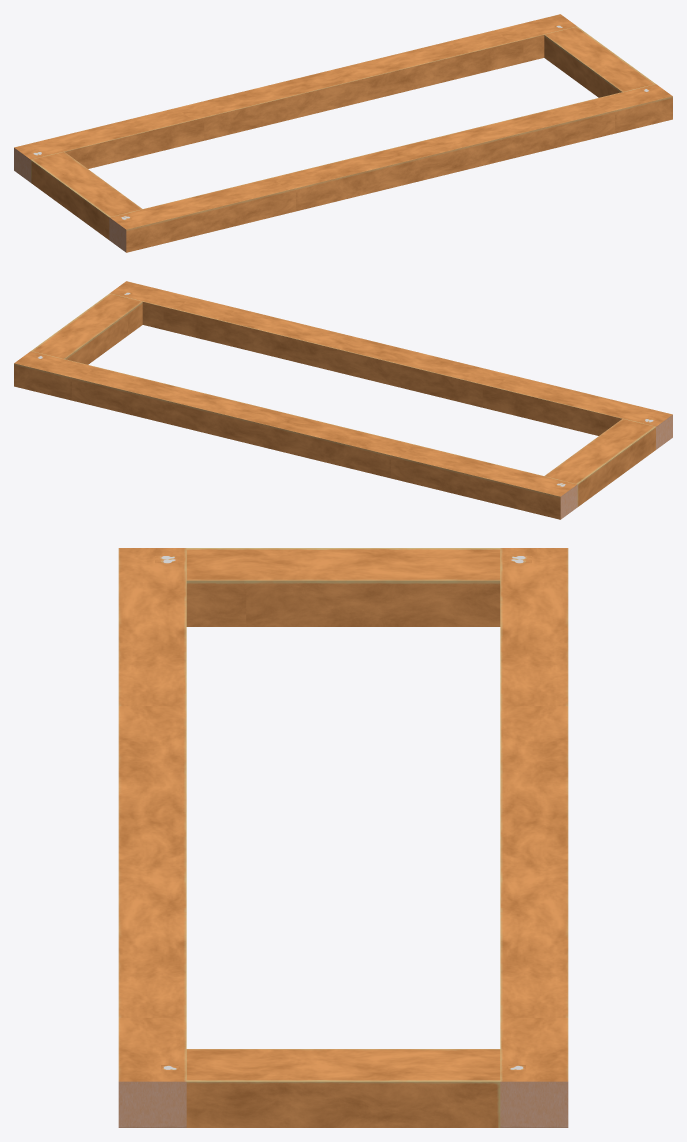
Rendered from LadderPlank_4.fbx.
3 views of the same model, one above another, from view 1: azimuth 30°, elevation 25°; view 2: azimuth 150°, elevation 25°; view 3: azimuth 270°, elevation 25° (orthographic). The views are drawn at different scales.
Parts seen in each view (by area): view 1: LadderPlank_4; view 2: LadderPlank_4; view 3: LadderPlank_4.
Boxes of the visible parts, x1,y1,x2,y2 form: LadderPlank_4: [14, 14, 672, 252]; LadderPlank_4: [14, 281, 672, 519]; LadderPlank_4: [118, 548, 568, 1127].
Bounding box in the file's own units: 2 × 0.0808 × 0.7122.
